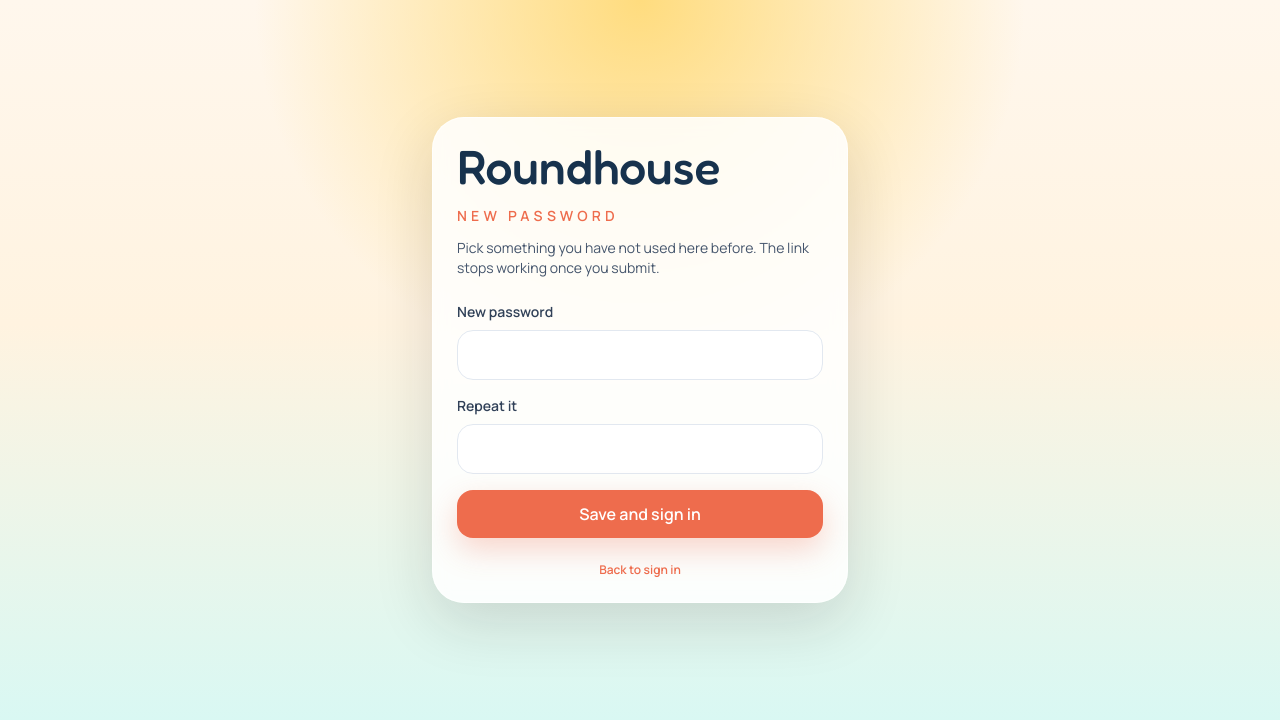
Test: ResetPasswordPage › shows the server's answer when the link is spent or expired
Type "correct horse battery" into the password field labelled "New password".
click(640, 355); type("correct horse battery")  # box [457,330,823,380]
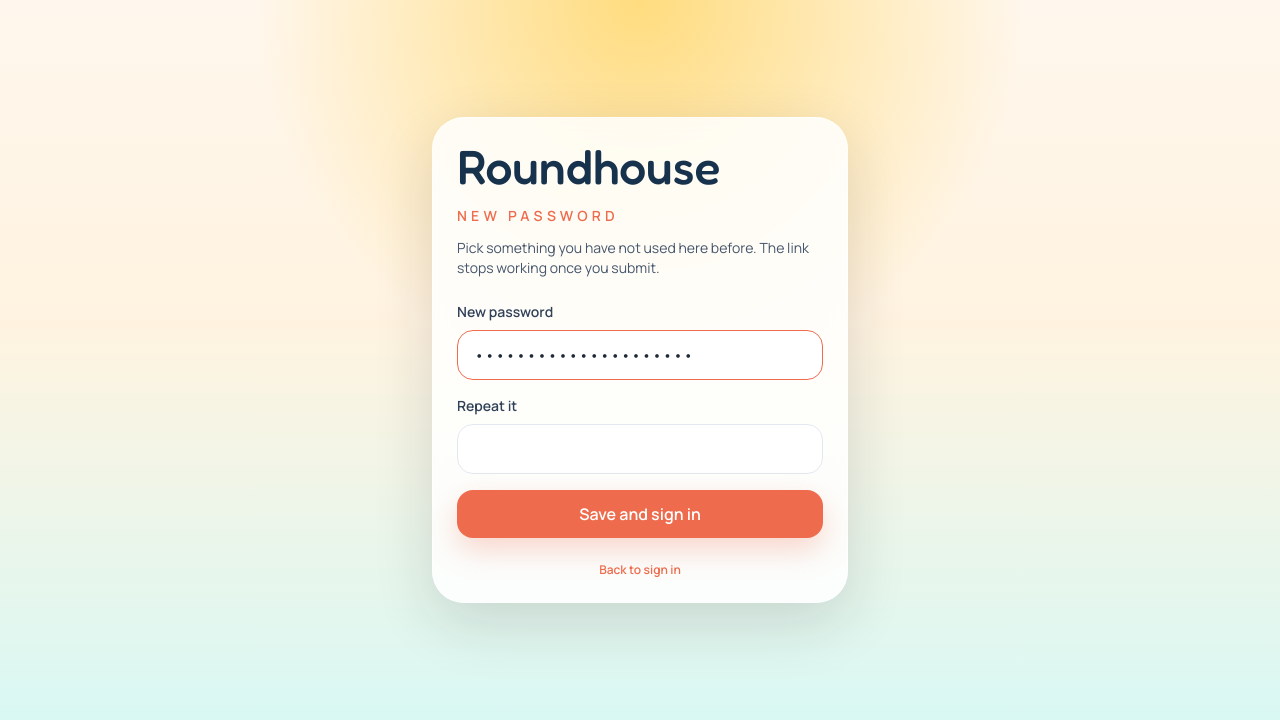
Type "correct horse battery" into the password field labelled "Repeat it".
click(640, 449); type("correct horse battery")  # box [457,424,823,474]
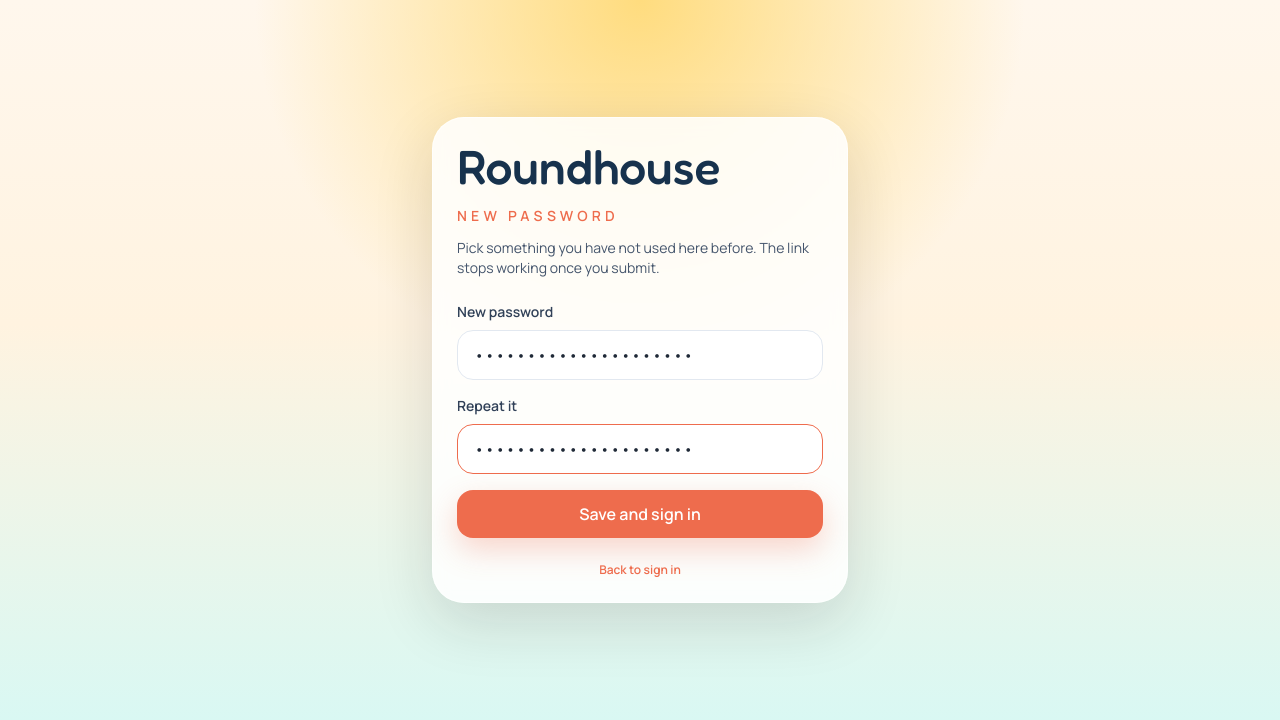
Click the button "Save and sign in".
click(640, 514)  # box [457,490,823,538]
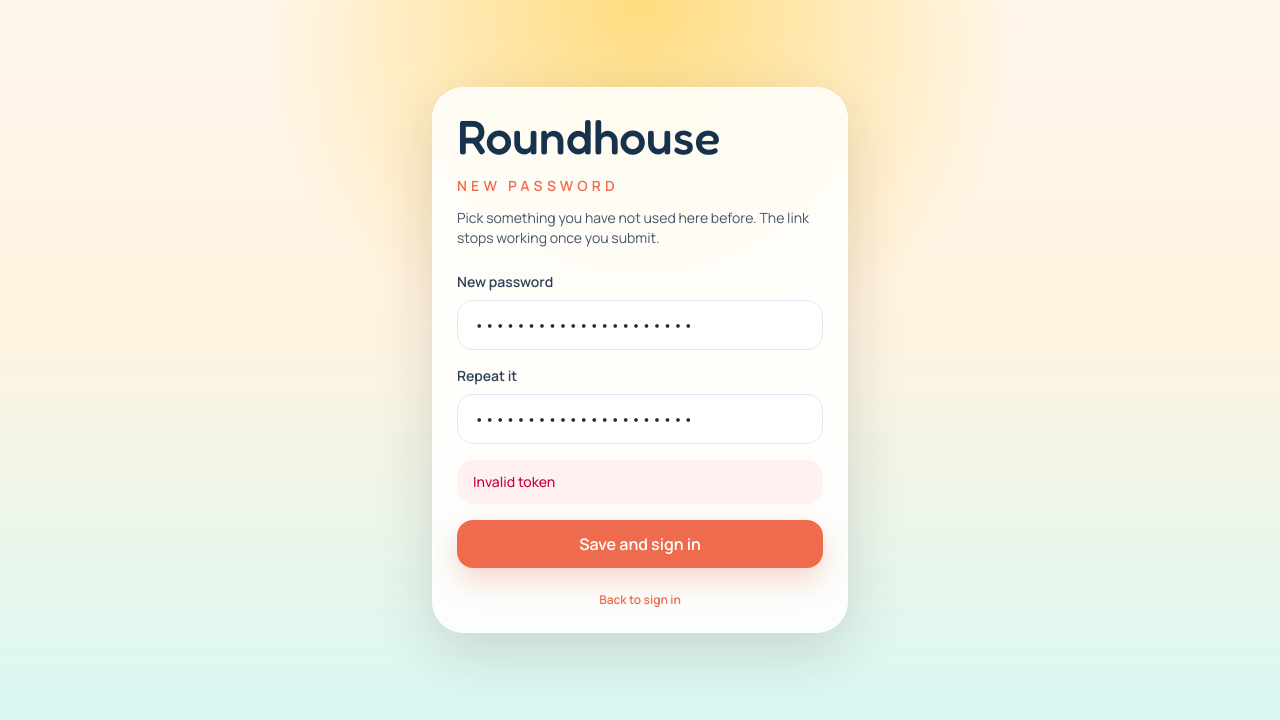
Expected: the message reads "Invalid token", [473,472,555,491]
